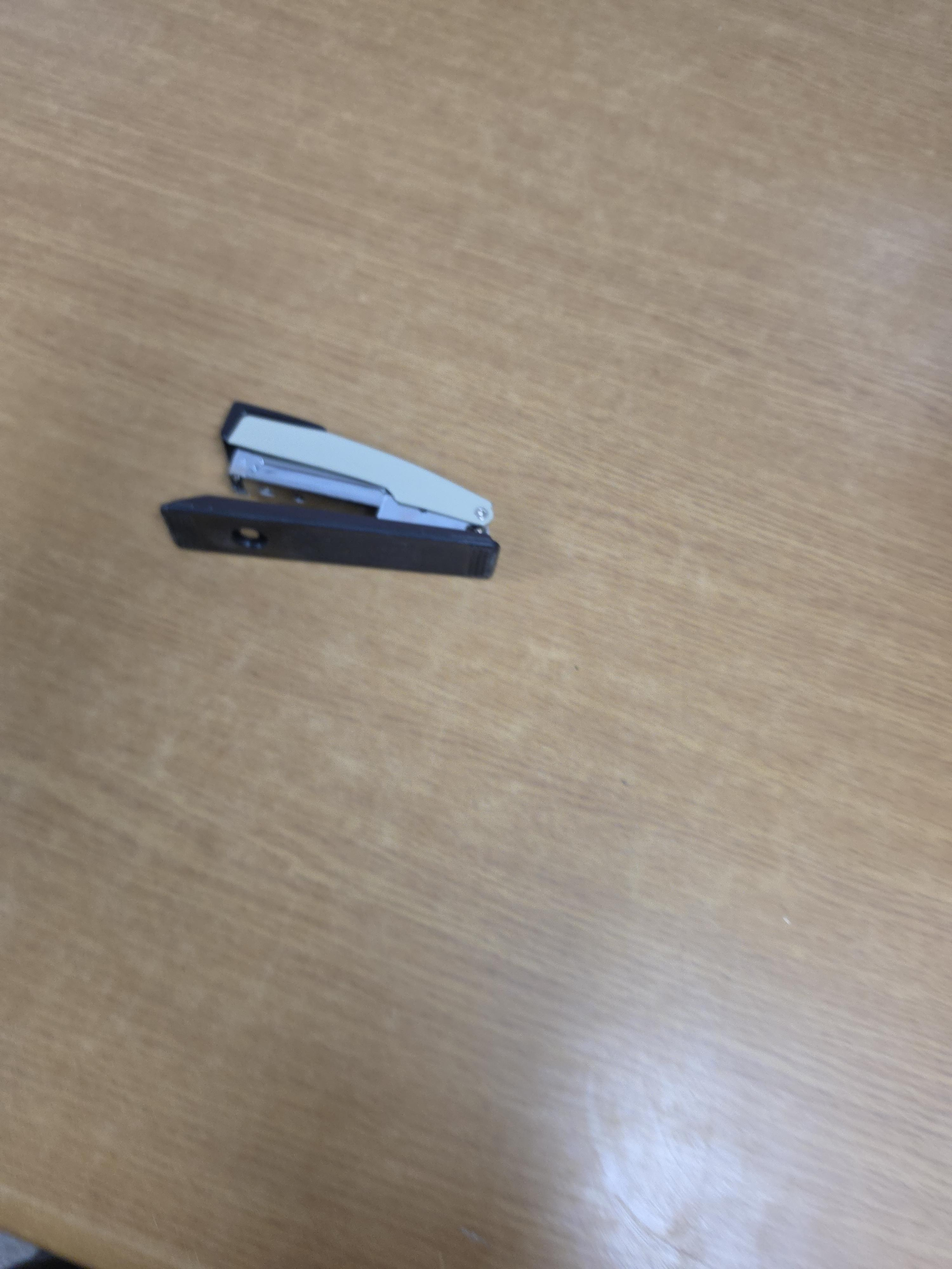stapler: (159, 400, 499, 579)
